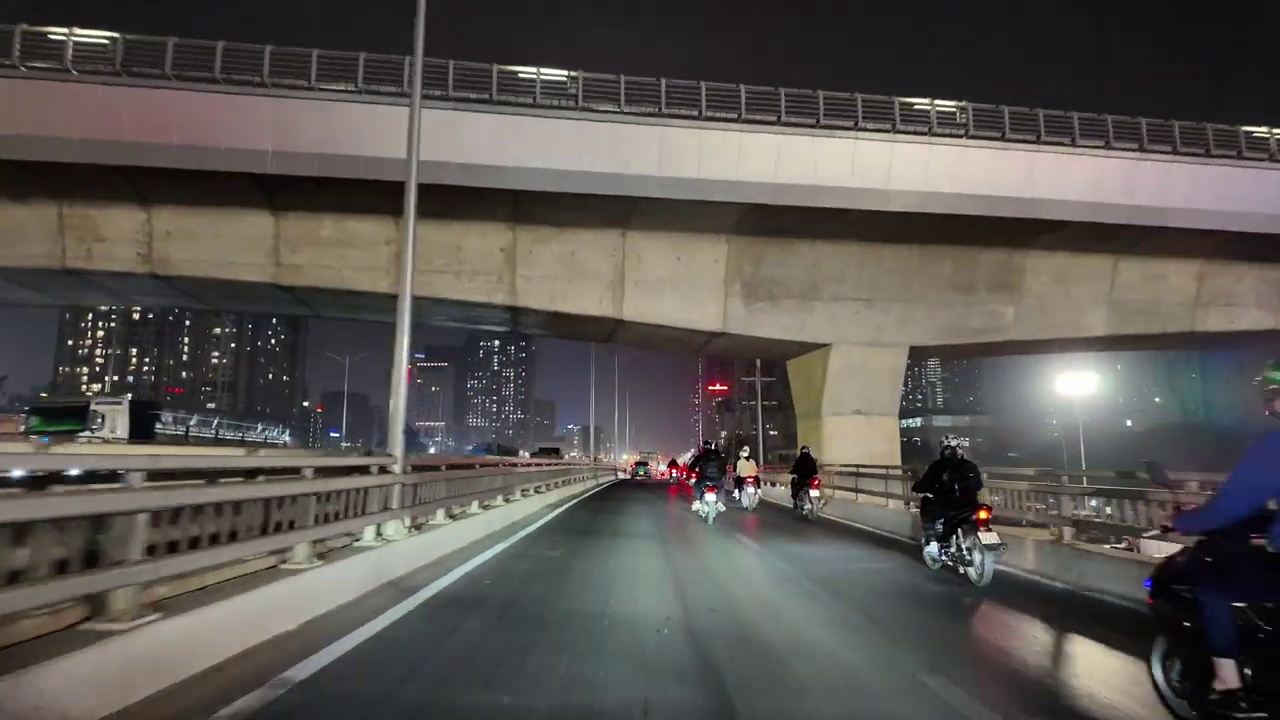acesa: (1058, 371, 1091, 395)
